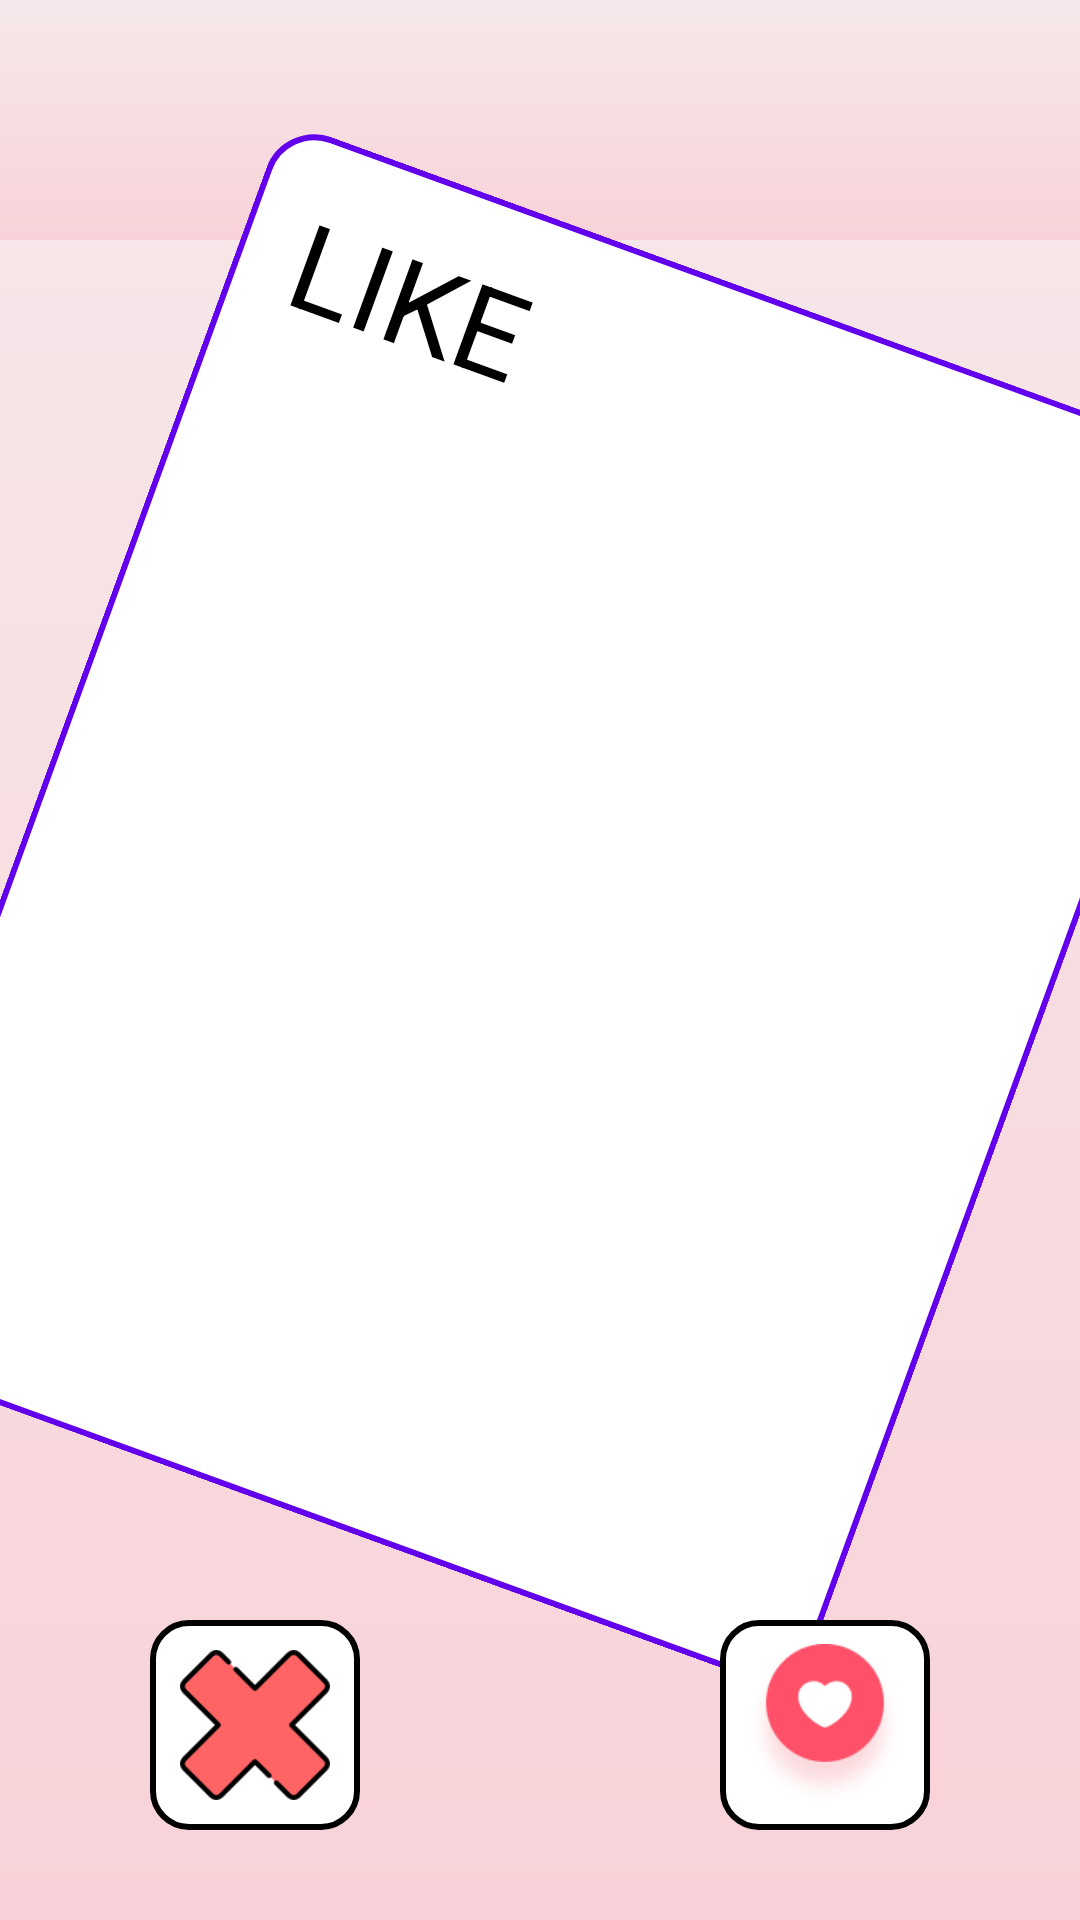

Icon bounding boxes for this 1080*1920 phone screenshot, format {"x1": x1, "y1": y1, "x2": x2, "y2": y2}:
like: {"x1": 720, "y1": 1620, "x2": 930, "y2": 1830}
remove: {"x1": 150, "y1": 1620, "x2": 360, "y2": 1830}
